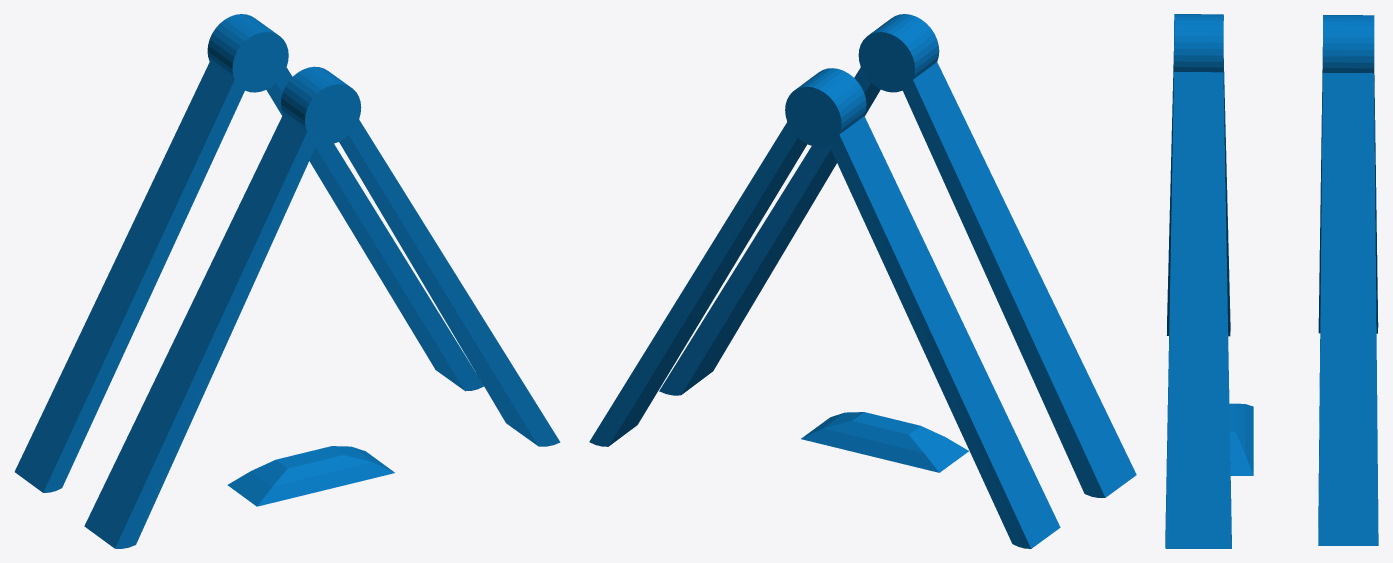
File: ferris_wheel_main.obj
3 views of the same model, side by side, from view 1: azimuth 30°, elevation 25°; view 2: azimuth 150°, elevation 25°; view 3: azimuth 270°, elevation 25° (orthographic). The views are drawn at different scales.
Visible parts, largest first — view 1: Cylinder.002, Cylinder.001, Cube; view 2: Cylinder.001, Cylinder.002, Cube; view 3: Cylinder.002, Cylinder.001, Cube.
Boxes of the visible parts, x1,y1,x2,y2 form: Cylinder.002: (84, 66, 560, 548); Cylinder.001: (14, 14, 483, 492); Cube: (227, 446, 394, 506); Cylinder.001: (589, 68, 1060, 548); Cylinder.002: (659, 14, 1136, 497); Cube: (801, 412, 968, 472); Cylinder.002: (1165, 14, 1231, 548); Cylinder.001: (1318, 15, 1378, 545); Cube: (1229, 403, 1253, 475).
Bounding box in the file's own units: 15.81 × 13.99 × 6.39.
2 materials, 2 textured.
